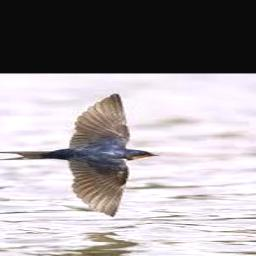Swallow: (0, 93, 158, 217)
